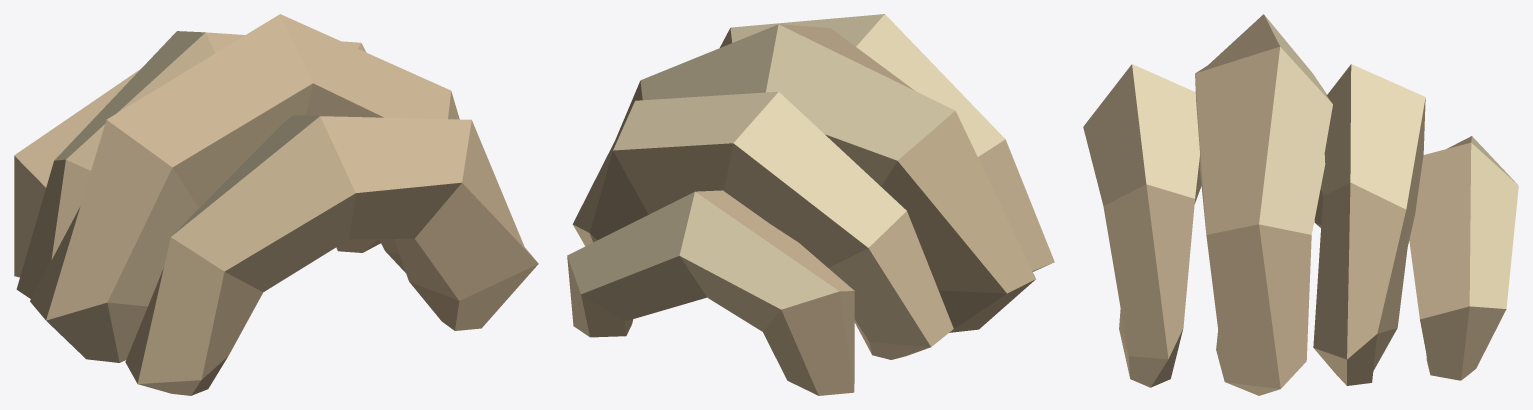
Rendered from TB_D_Env_BoneD_A.FBX.
3 views of the same model, side by side, from view 1: azimuth 30°, elevation 25°; view 2: azimuth 150°, elevation 25°; view 3: azimuth 270°, elevation 25° (orthographic). The views are drawn at different scales.
Parts seen in each view (by area): view 1: TB_D_Env_BoneD_A; view 2: TB_D_Env_BoneD_A; view 3: TB_D_Env_BoneD_A.
Boxes of the visible parts, x1=… form: TB_D_Env_BoneD_A: x1=14, y1=14, x2=538, y2=395; TB_D_Env_BoneD_A: x1=567, y1=14, x2=1054, y2=395; TB_D_Env_BoneD_A: x1=1083, y1=14, x2=1518, y2=395.
Bounding box in the file's own units: 1.65 × 0.9755 × 1.4.
